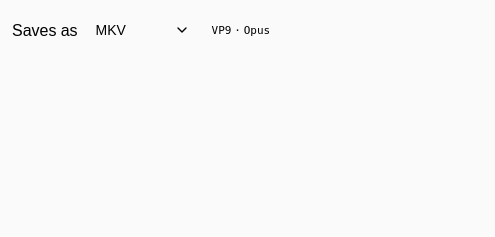
SavesAsControl › marks the profile’s own file type in the menu
This screenshot has width=495, height=237.
Click the dropdown with test id "saves-as-trigger": click(142, 30) [86,12,198,48]
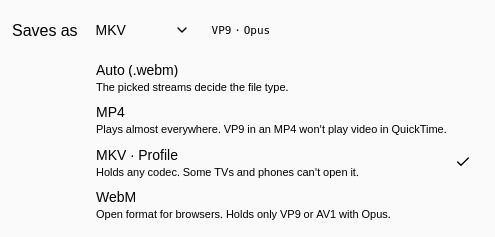
expect the option with test id "saves-as-option-mp4" does not show "Profile": met, box [90,98,479,141]
expect the option with test id "saves-as-option-mkv" shows "MKV · Profile": met, box [90,141,479,183]
